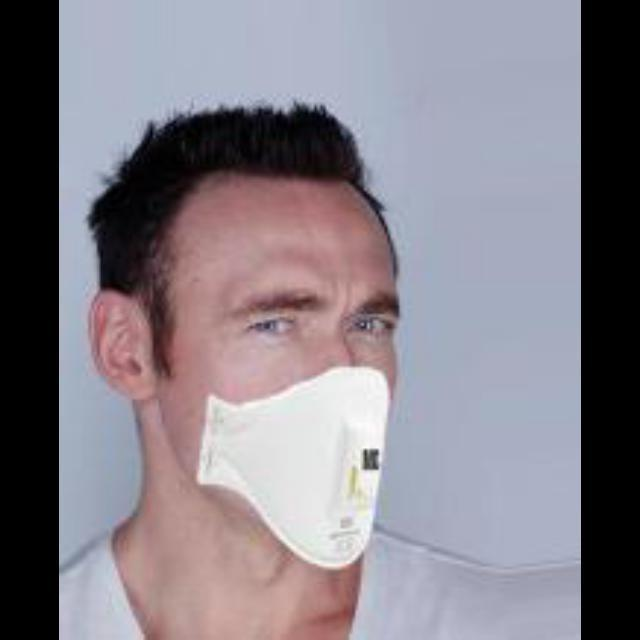suspicion: (79, 117, 484, 545)
